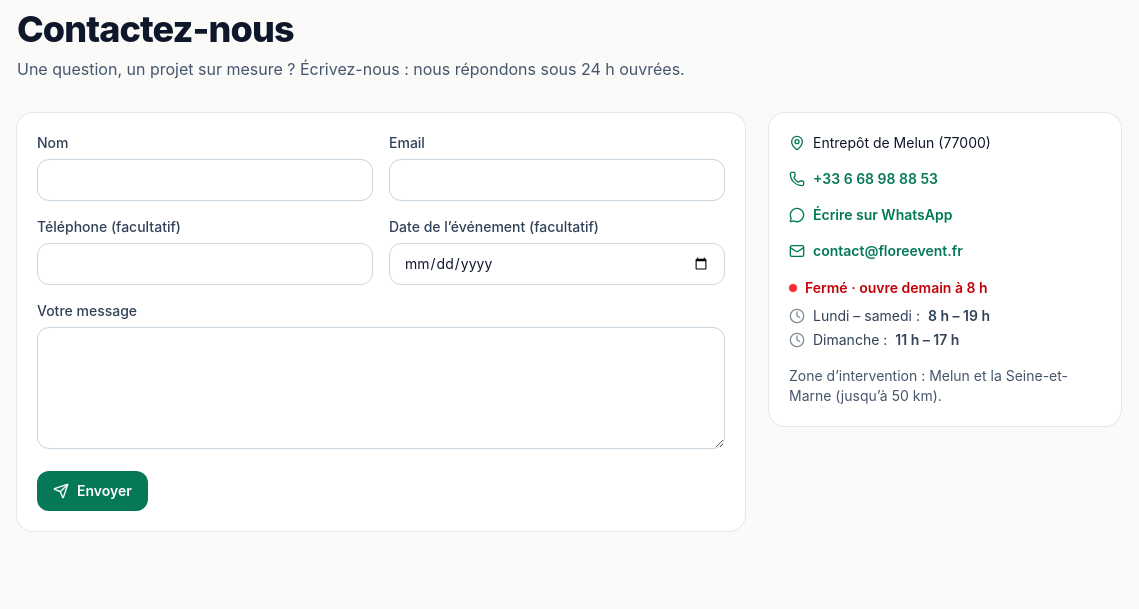
Test: Vitrine et démonstration (US-20 à US-23) › un visiteur écrit à l’équipe depuis la page contact
Type "Élodie Garnier" into the field labelled "Nom".
click(205, 180); type("Élodie Garnier")  # box [37,159,373,201]
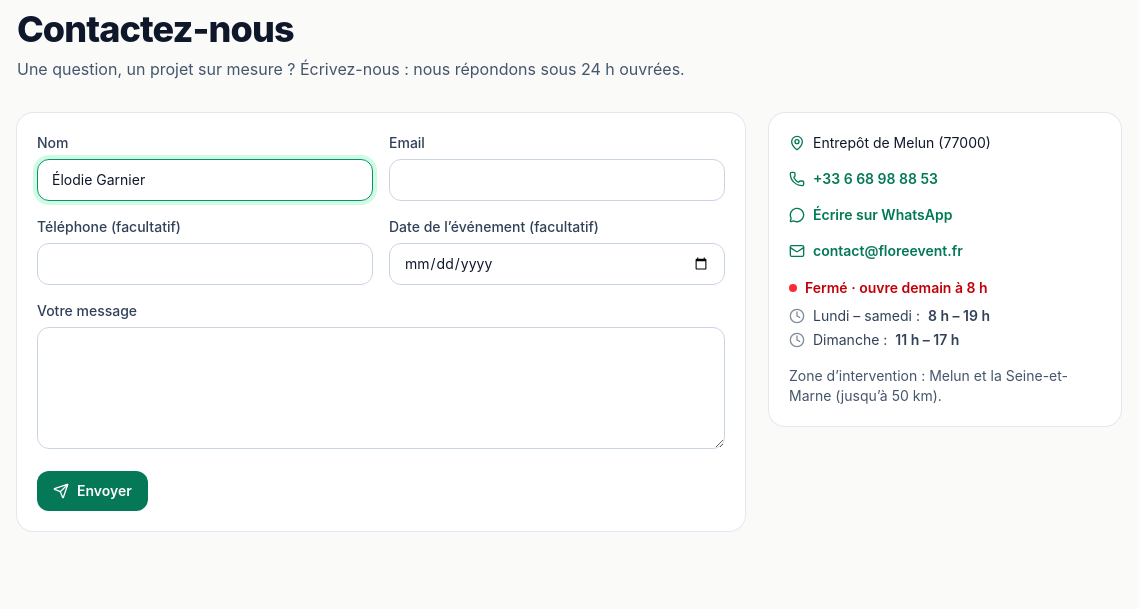
Type "elodie@exemple.fr" into the field labelled "Email".
click(557, 180); type("elodie@exemple.fr")  # box [389,159,725,201]
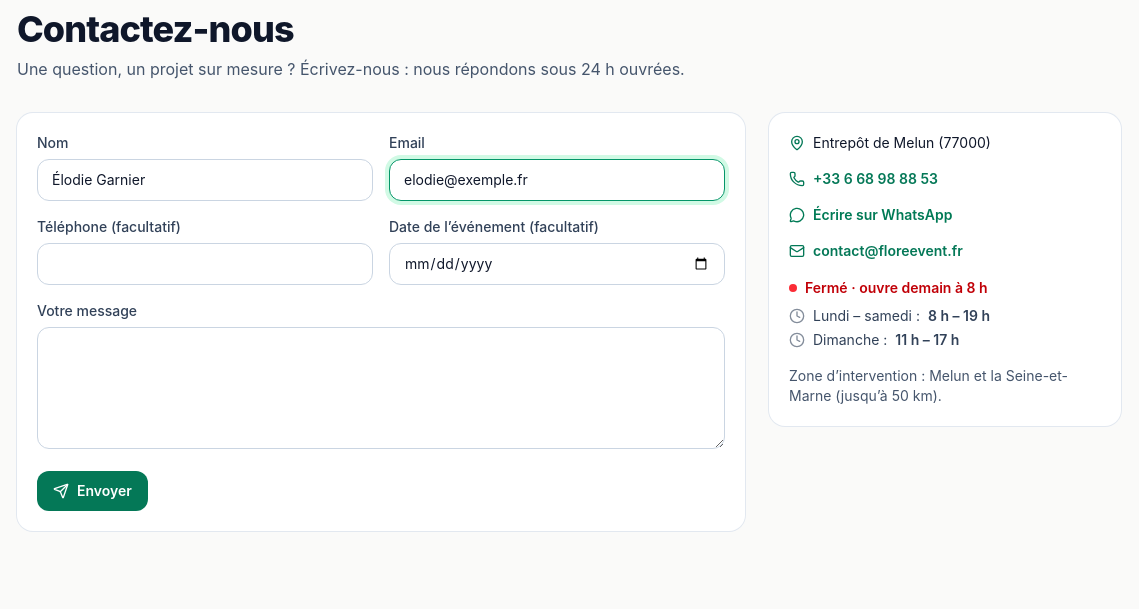
Type "Mariage de 120 personnes" into the text box labelled "Votre message".
click(381, 388); type("Mariage de 120 personnes")  # box [37,327,725,449]
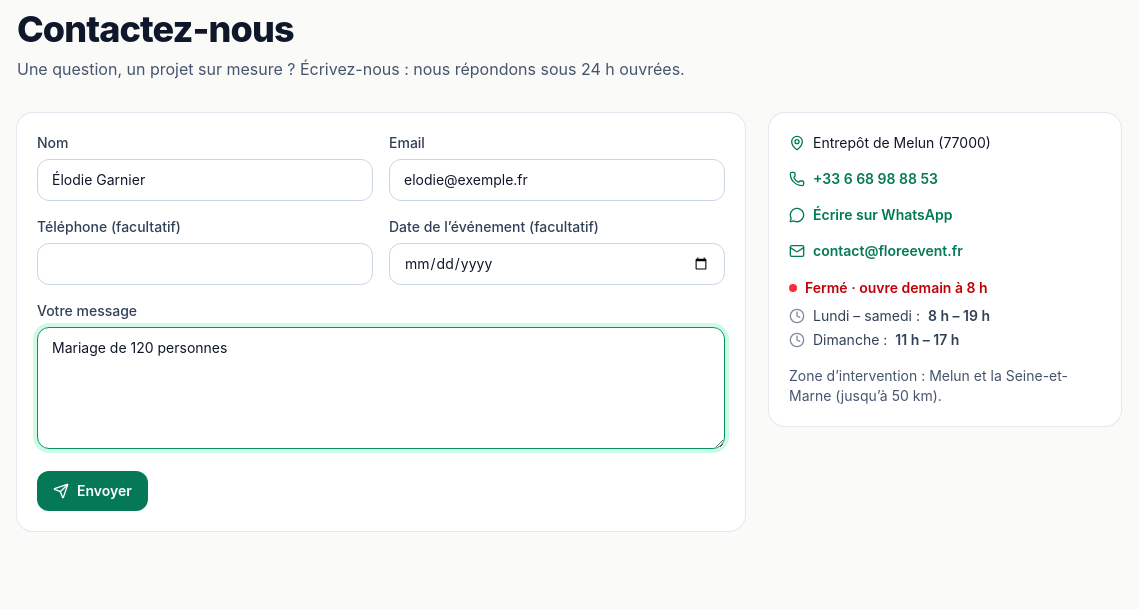
Click the button "Envoyer".
click(92, 491)  # box [37,471,148,511]
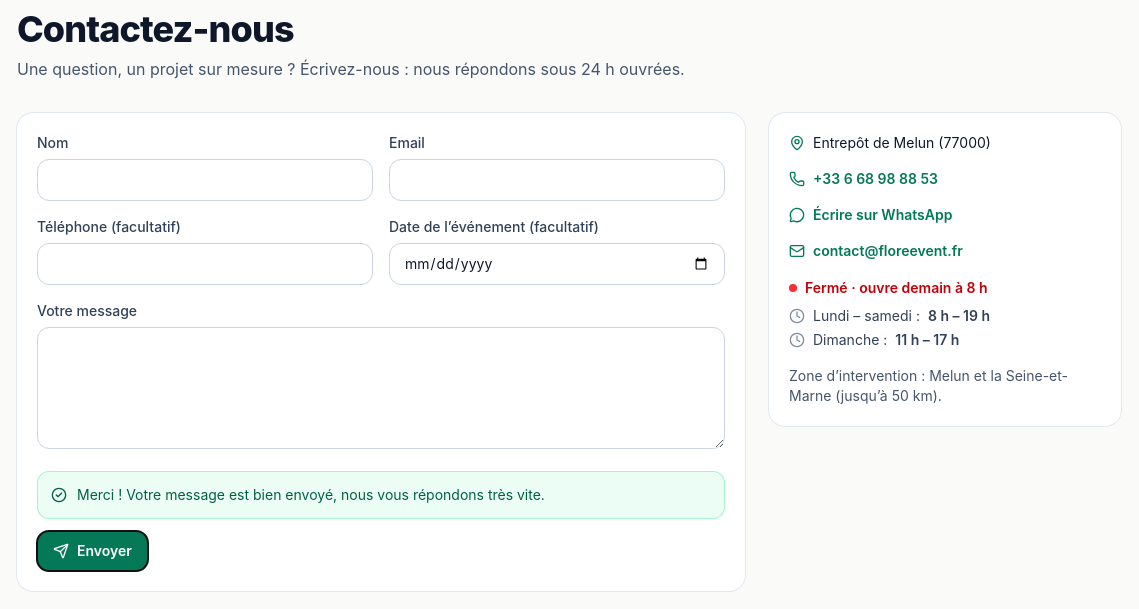
Check: the text "Votre message est bien envoyé" is shown, box [77,486,545,503]
